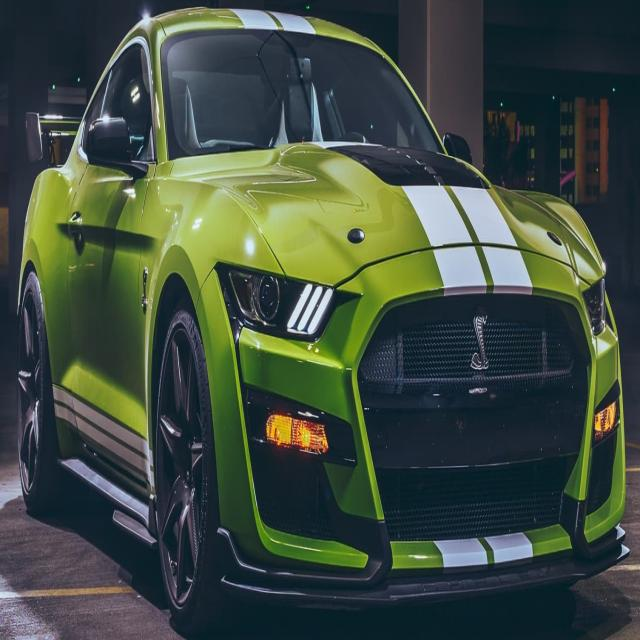green: (17, 11, 631, 626)
